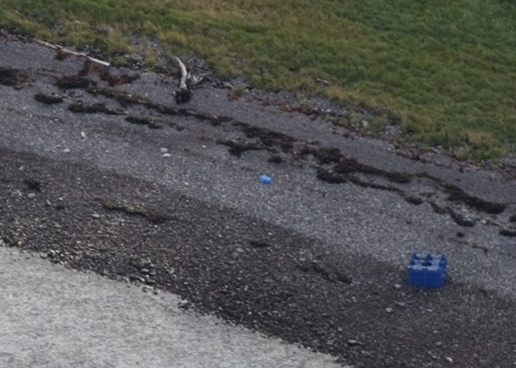scattered_barrel: (237, 153, 294, 198)
straight_bar: (29, 30, 113, 71)
tube: (166, 51, 199, 102)
white_in_green: (378, 225, 475, 313)
